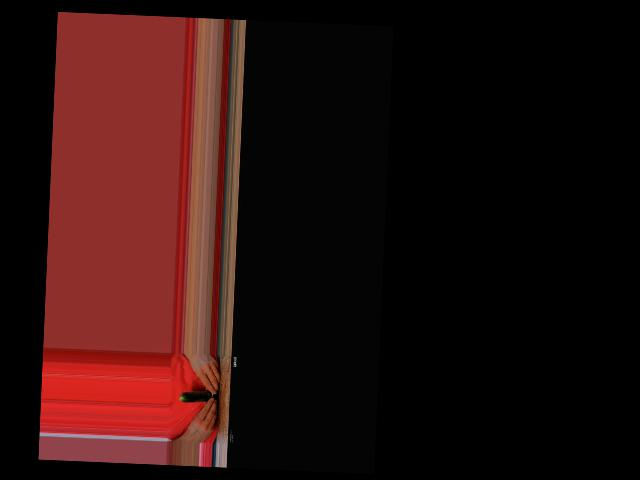cucumber: (179, 390, 218, 404)
